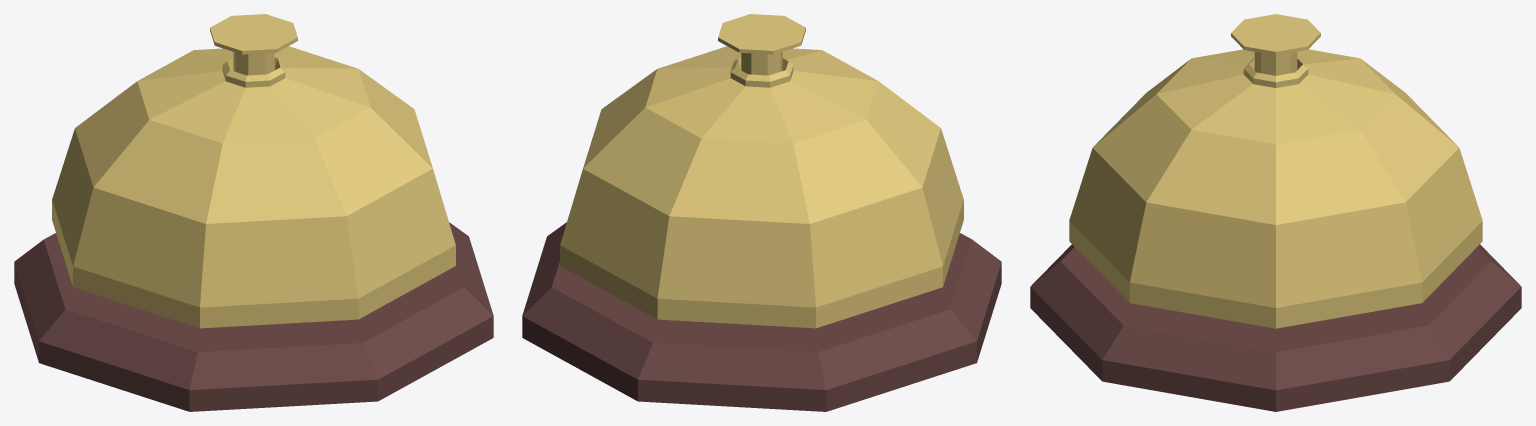
The model's file is Bell.fbx.
The picture shows the model from 3 angles, left to right: view 1: azimuth 30°, elevation 25°; view 2: azimuth 150°, elevation 25°; view 3: azimuth 270°, elevation 25°; orthographic projection.
Parts seen in each view (by area): view 1: Cylinder; view 2: Cylinder; view 3: Cylinder.
Boxes of the visible parts, bbox=[...] form: Cylinder: bbox=[14, 14, 493, 411]; Cylinder: bbox=[522, 14, 1001, 411]; Cylinder: bbox=[1030, 14, 1521, 411].
Size of the model in its own units: 15.69 by 9.7 by 15.69.
